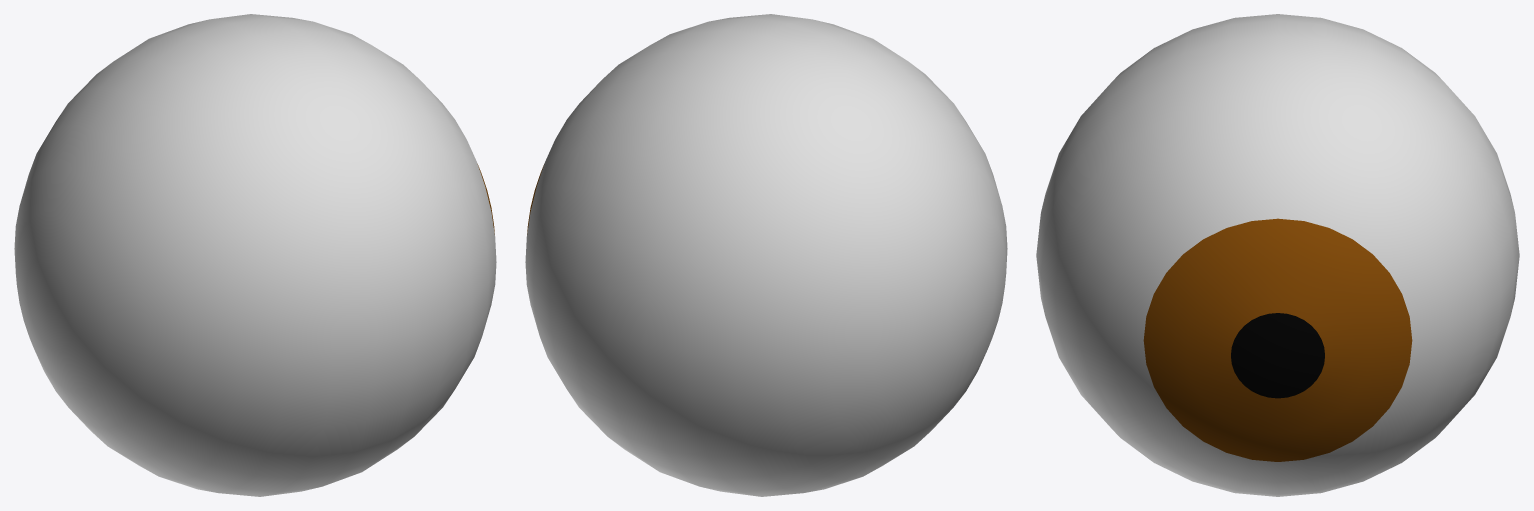
Rendered from eye.glb.
3 renders of one model, left to right at view 1: azimuth 30°, elevation 25°; view 2: azimuth 150°, elevation 25°; view 3: azimuth 270°, elevation 25°, orthographic.
Parts seen in each view (by area): view 1: Sphere; view 2: Sphere; view 3: Sphere.
Part boxes in pixels (left/top/right/bottom): Sphere: left=14, top=14, right=496, bottom=496; Sphere: left=525, top=14, right=1007, bottom=496; Sphere: left=1036, top=14, right=1519, bottom=496.
Bounding box in the file's own units: 2.03 × 2 × 2.
